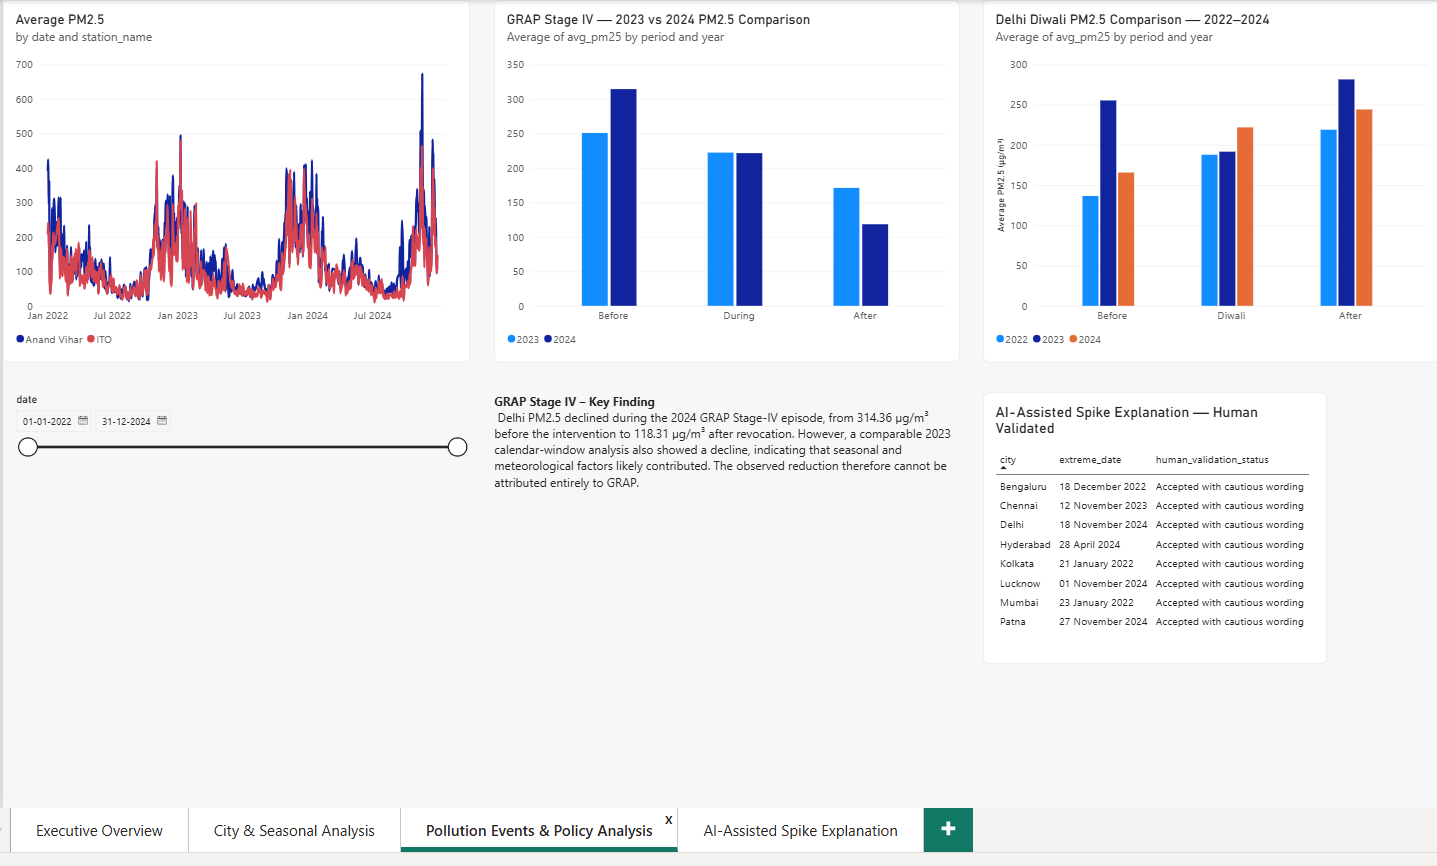

What the dashboard file says about the page in this screenshot:
{"tool":"powerbi","page":{"name":"Pollution Events & Policy Analysis","canvas":[1920,1080],"ordinal":2},"visuals":[{"type":"lineChart","fields":{"Category":["powerbi_daily_station_2022_2024.date"],"Series":["powerbi_daily_station_2022_2024.station_name"],"Y":["powerbi_daily_station_2022_2024.Average PM2.5"]},"box":[0,0,623.7,483.7],"z":0},{"type":"slicer","fields":{"Values":["powerbi_daily_station_2022_2024.date"]},"box":[10.3,524.9,613.4,555.7],"z":1},{"type":"clusteredColumnChart","title":"GRAP Stage IV — 2023 vs 2024 PM2.5 Comparison","fields":{"Category":["grap_stage_iv_comparison_2023_2024.period"],"Series":["grap_stage_iv_comparison_2023_2024.year"],"Y":["Avg(grap_stage_iv_comparison_2023_2024.avg_pm25)"]},"box":[656.6,0,621.6,483.7],"z":2},{"type":"textbox","box":[656.6,524.9,621.6,555.7],"z":3},{"type":"clusteredColumnChart","title":"Delhi Diwali PM2.5 Comparison — 2022–2024","fields":{"Category":["Diwali Period Sort.period"],"Series":["diwali_comparison_2022_2024.year"],"Y":["Avg(diwali_comparison_2022_2024.avg_pm25)"]},"box":[1309.1,0,611.3,483.7],"z":4},{"type":"tableEx","title":"AI-Assisted Spike Explanation — Human Validated","fields":{"Values":["ai_human_validation_2022_2024.city","ai_human_validation_2022_2024.extreme_date","ai_human_validation_2022_2024.human_validation_status"]},"box":[1309.1,524.9,459,362.3],"z":5}]}

Visuals, with their boxes on the page's 1920x1080 design canvas (x1, y1, x2, y2). These are canvas units, not pixel positions in the 1437x866 screenshot, which may show the page scaled, cropped or inside an application window:
lineChart - powerbi_daily_station_2022_2024.date x powerbi_daily_station_2022_2024.station_name: l=0, t=0, r=624, b=484
slicer - powerbi_daily_station_2022_2024.date: l=10, t=525, r=624, b=1081
"GRAP Stage IV — 2023 vs 2024 PM2.5 Comparison" clusteredColumnChart: l=657, t=0, r=1278, b=484
textbox: l=657, t=525, r=1278, b=1081
"Delhi Diwali PM2.5 Comparison — 2022–2024" clusteredColumnChart: l=1309, t=0, r=1920, b=484
"AI-Assisted Spike Explanation — Human Validated" tableEx: l=1309, t=525, r=1768, b=887
